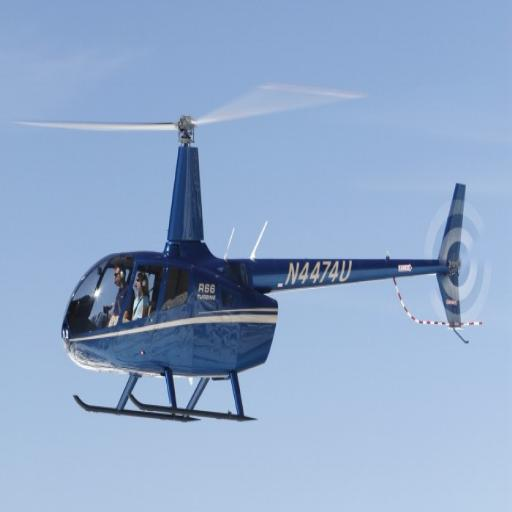helicopter: (19, 80, 496, 432)
